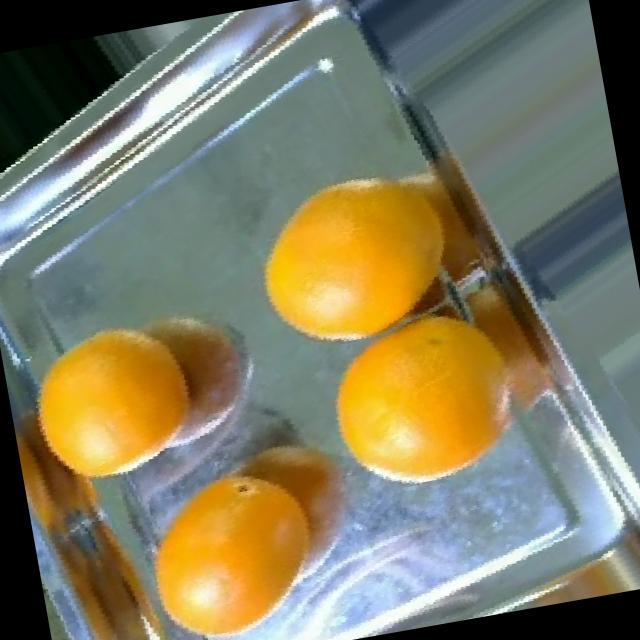Fruit: (0, 283, 253, 523)
